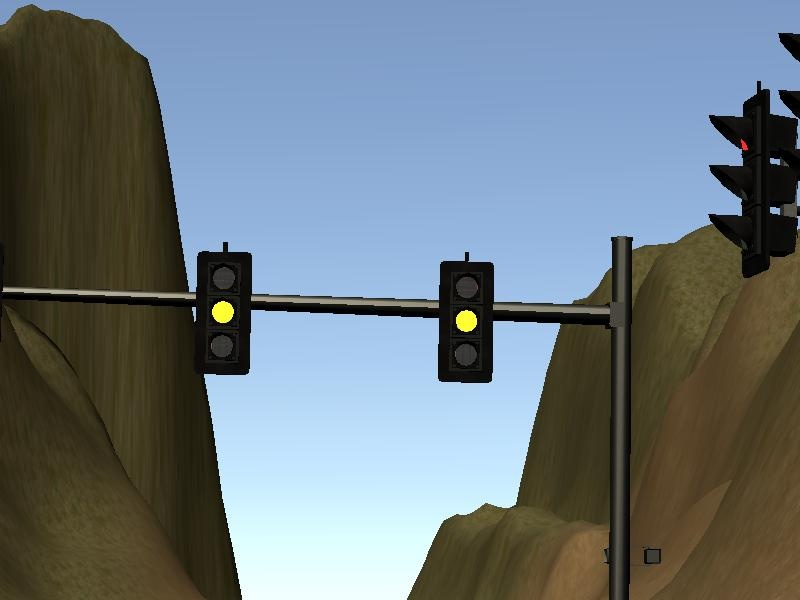YELLOW: (192, 246, 254, 379), (435, 253, 497, 386)
